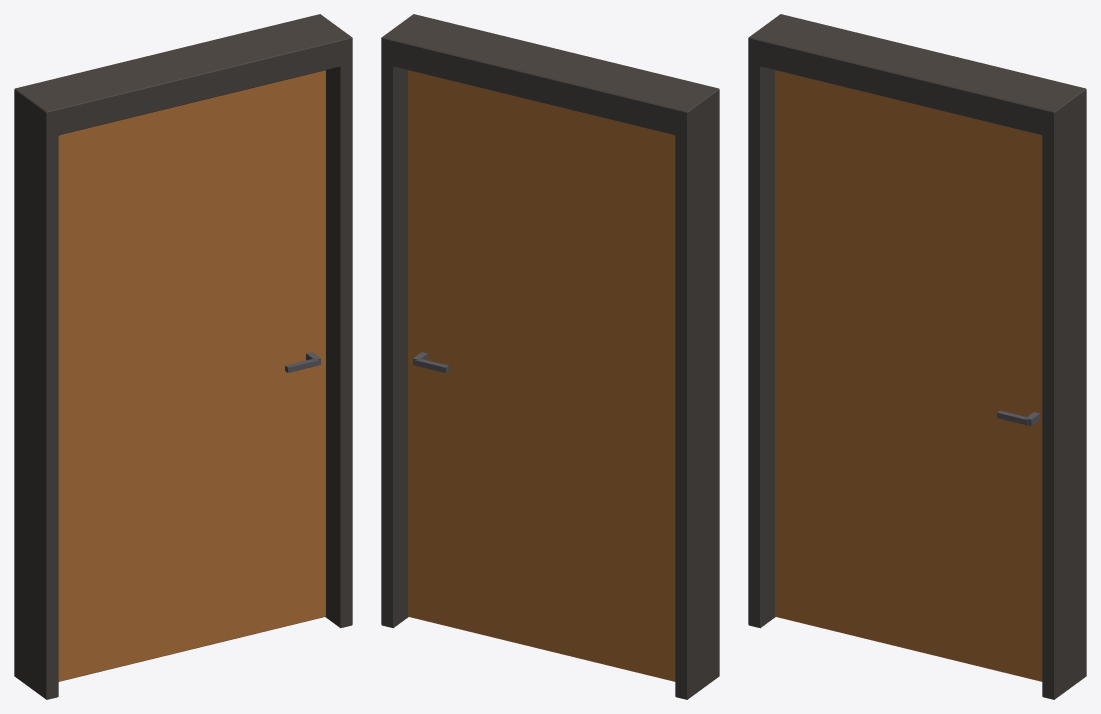
File: arch_door_service_t20.glb
3 views of the same model, side by side, from view 1: azimuth 30°, elevation 25°; view 2: azimuth 150°, elevation 25°; view 3: azimuth 330°, elevation 25° (orthographic).
Parts seen in each view (by area): view 1: LeafMesh, Frame; view 2: LeafMesh, Frame; view 3: LeafMesh, Frame.
Boxes of the visible parts, x1=… form: LeafMesh: x1=58, y1=70, x2=325, y2=681; Frame: x1=14, y1=14, x2=352, y2=699; LeafMesh: x1=408, y1=70, x2=675, y2=681; Frame: x1=381, y1=14, x2=719, y2=699; LeafMesh: x1=775, y1=70, x2=1042, y2=681; Frame: x1=748, y1=14, x2=1086, y2=699.
Size of what is drawn, in the model's own units: 1.2 by 2.2 by 0.22.
